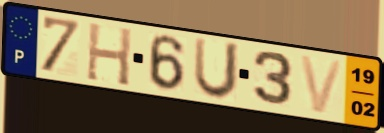3: (250, 50, 296, 108)
6: (147, 33, 189, 94)
7: (39, 14, 82, 75)
H: (84, 19, 134, 88)
U: (191, 35, 242, 102)
V: (297, 53, 347, 116)
